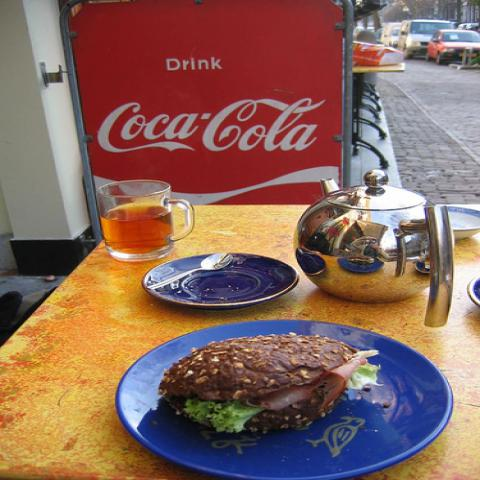car: (395, 19, 454, 61), (425, 29, 479, 64), (382, 21, 402, 48), (462, 23, 480, 31), (455, 22, 468, 30)
